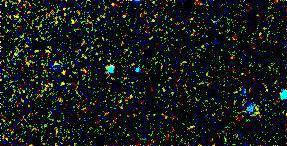star: (49, 60, 79, 90)
